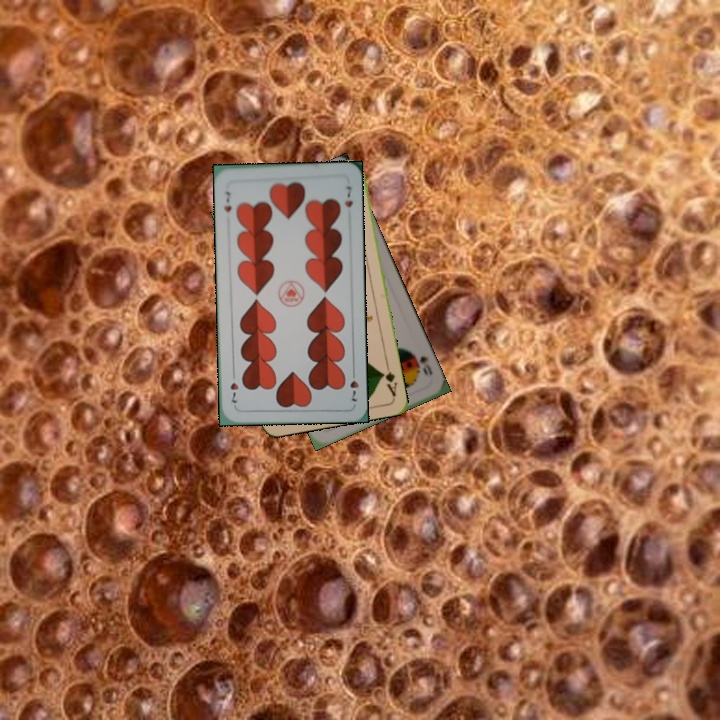GA: (378, 359, 400, 399)
H7: (346, 365, 361, 405), (220, 188, 234, 214)
SO: (415, 352, 435, 378)
